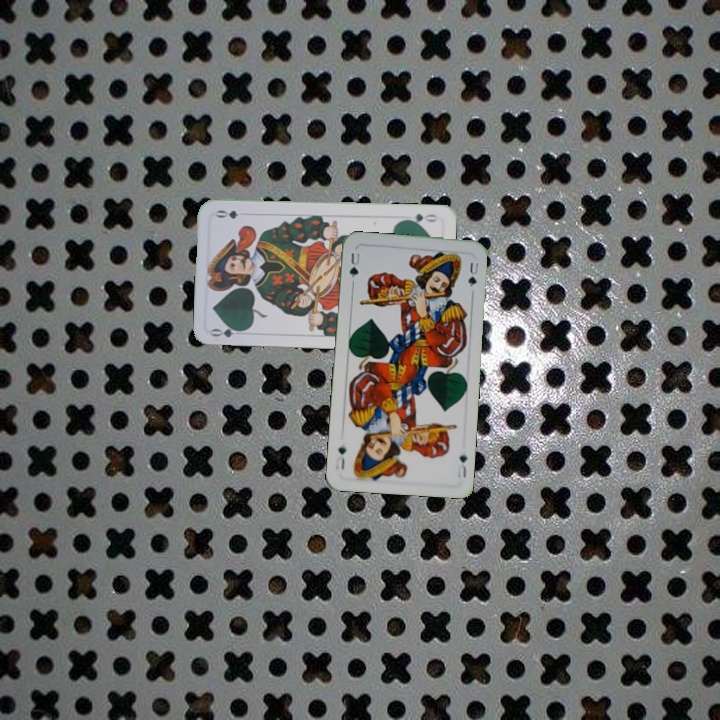GO: (207, 321, 248, 340), (400, 209, 440, 226)
GU: (345, 249, 362, 280), (453, 450, 470, 480)
